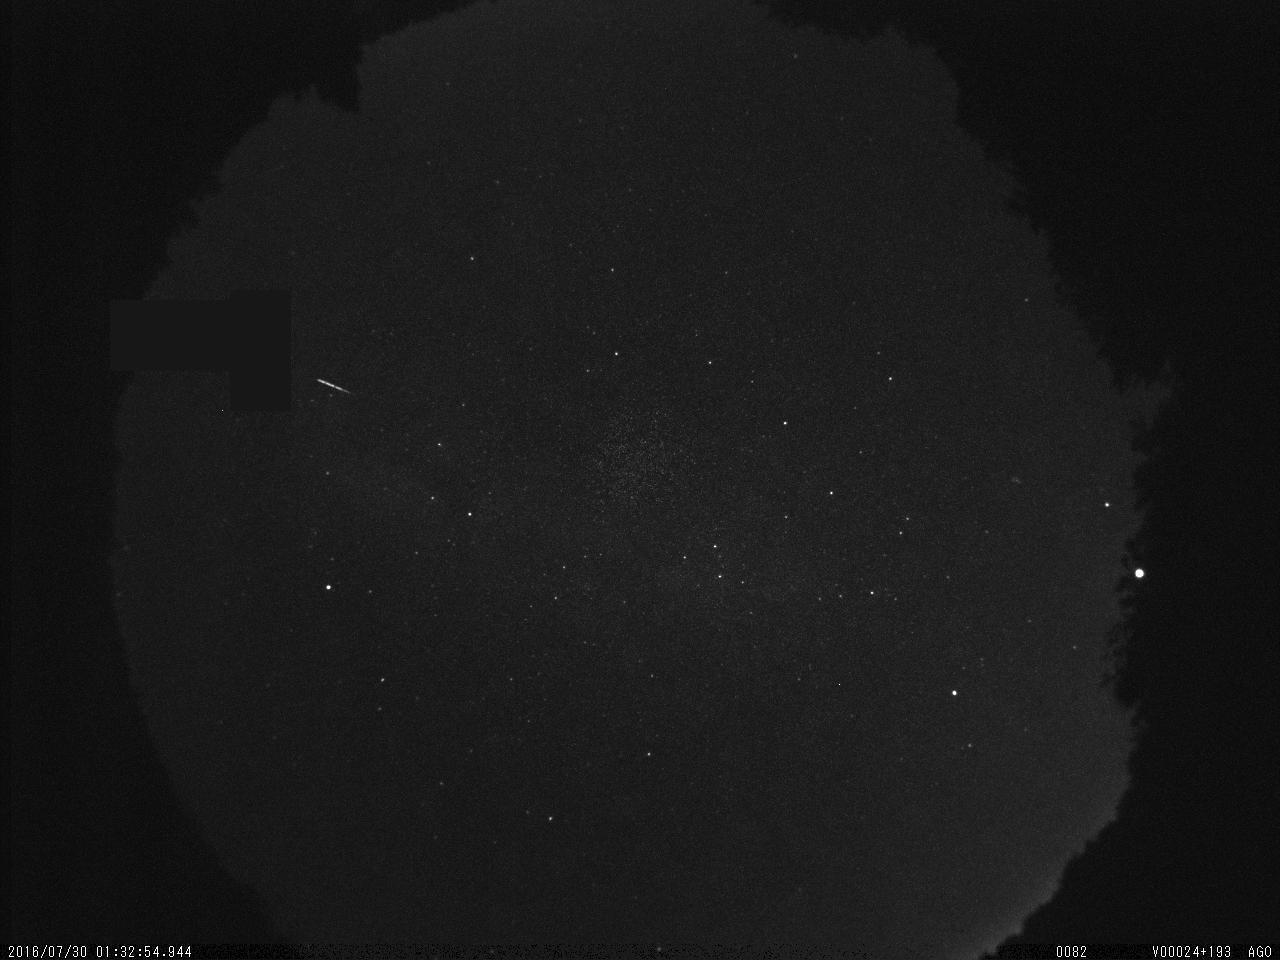Meteor: (307, 371, 360, 403)
